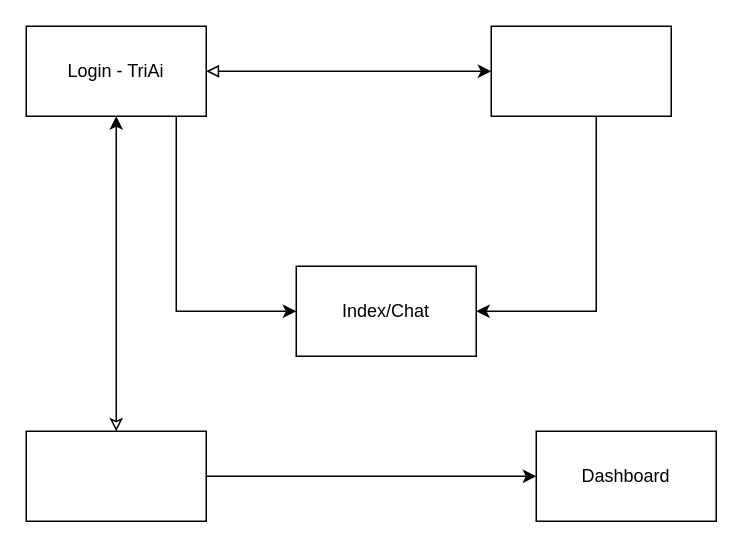
Some shapes in this 743 by 548 pixel diagram are drawn without their labels. Here are the shapes that lost their labels. From the top down, the centre of each, then its label:
At (x=580, y=70): "Sign-up".
At (x=115, y=475): "Doctor Login".
